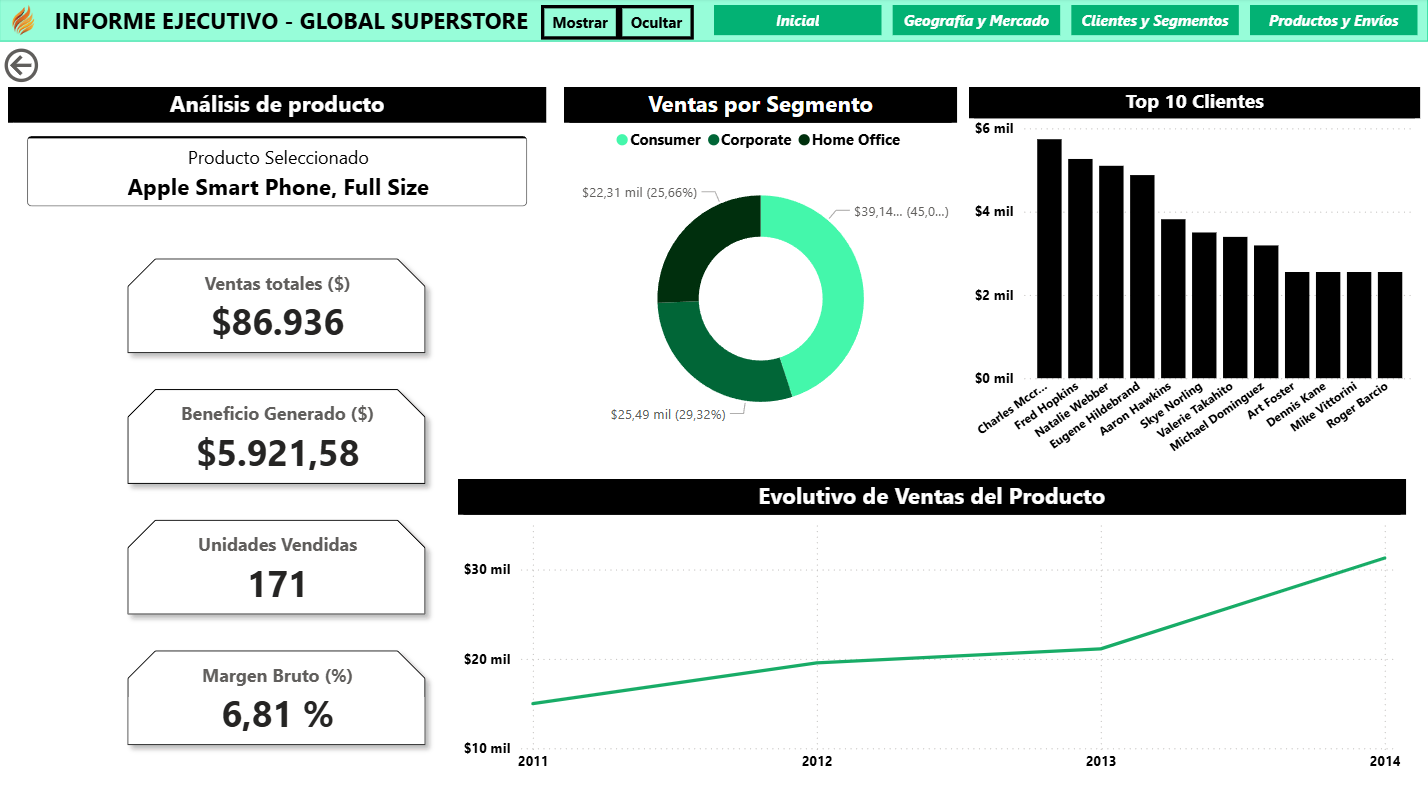

This screenshot's page, from the dashboard's own definition file:
{"tool":"powerbi","page":{"name":"Detalle de Producto","canvas":[1280,720],"ordinal":4},"visuals":[{"type":"group","id":"g1","title":"Grupo 1","box":[0,0,1280,40],"z":0},{"type":"shape","box":[0,0,1280,39.2],"z":0,"group":"g1"},{"type":"image","box":[0,0,42.3,40.2],"z":1000,"group":"g1"},{"type":"actionButton","box":[0,40,100,40],"z":1000},{"type":"pageNavigator","box":[640,6.2,632.8,27.8],"z":2000,"group":"g1"},{"type":"cardVisual","title":"Análisis de producto","fields":{"Data":["Metricas.Producto_Seleccionado"]},"box":[7.8,80,482.2,124.4],"z":2000},{"type":"cardVisual","fields":{"Data":["Metricas.KPI_Total_Ventas","Metricas.KPI_Total_Profit","Metricas.KPI_Total_Unidades","Metricas.KPI_Margen_bruto_%"]},"box":[85.6,204.4,325.6,497.8],"z":3000},{"type":"lineChart","title":"Evolutivo de Ventas del Producto","fields":{"Y":["Metricas.KPI_Total_Ventas"],"Category":["Dim_Date.Jerarquía de fecha.Año","Dim_Date.Jerarquía de fecha.Mes","Dim_Date.Jerarquía de fecha.Día"]},"box":[411.1,431.1,848.9,271.1],"z":4000},{"type":"columnChart","title":"Top 10 Clientes ","fields":{"Category":["Dim_Customer.Customer_Name"],"Y":["Metricas.KPI_Total_Ventas"]},"box":[868.9,80,404.4,337.8],"z":5000},{"type":"donutChart","title":"Ventas por Segmento","fields":{"Category":["Dim_Customer.Segment"],"Y":["Metricas.KPI_Total_Ventas"]},"box":[505.6,80,352.2,323.3],"z":6000},{"type":"actionButton","title":"Mostrar","box":[485,6,70,31],"z":9000,"group":"g2"},{"type":"actionButton","title":"Ocultar","box":[555,6,67,31],"z":10000,"group":"g2"},{"type":"group","id":"g2","title":"Filtros Activar","box":[485,6,304,337],"z":10001}]}

Visuals, with their boxes in screenshot pixels (x1, y1, x2, y2), scaled from the page's 1280x720 canvas onto the 1428x800 screenshot:
"Grupo 1" group: 0:0:1427:44
shape: 0:0:1427:44
image: 0:0:47:45
actionButton: 0:44:112:89
pageNavigator: 714:7:1420:38
"Análisis de producto" cardVisual: 9:89:547:227
cardVisual - Metricas.KPI_Total_Ventas x Metricas.KPI_Total_Profit: 95:227:459:780
"Evolutivo de Ventas del Producto" lineChart: 459:479:1406:780
"Top 10 Clientes " columnChart: 969:89:1421:464
"Ventas por Segmento" donutChart: 564:89:957:448
"Mostrar" actionButton: 541:7:619:41
"Ocultar" actionButton: 619:7:694:41
"Filtros Activar" group: 541:7:880:381
